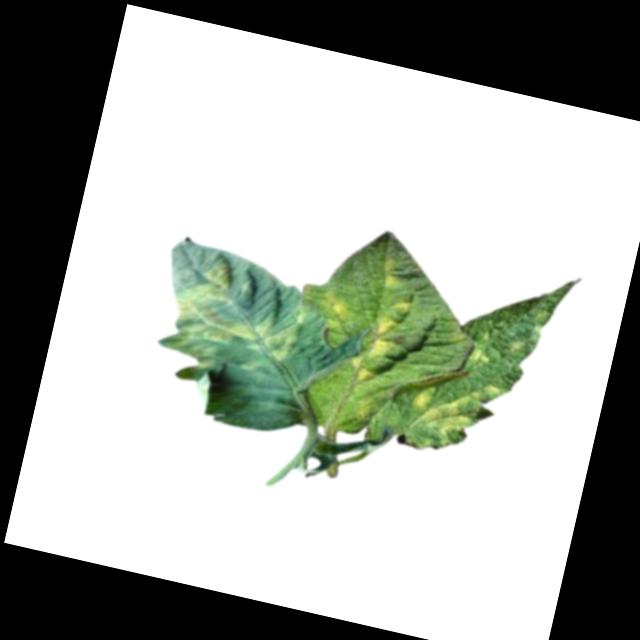Leaf_Mold: (161, 255, 314, 387), (406, 365, 502, 444), (350, 296, 411, 387), (316, 286, 358, 336), (376, 255, 407, 290), (465, 340, 492, 372)
